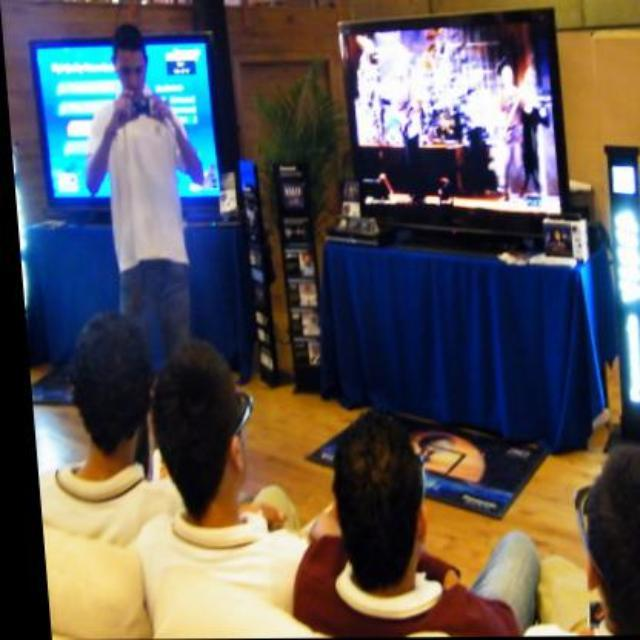Television: (342, 8, 568, 225)
